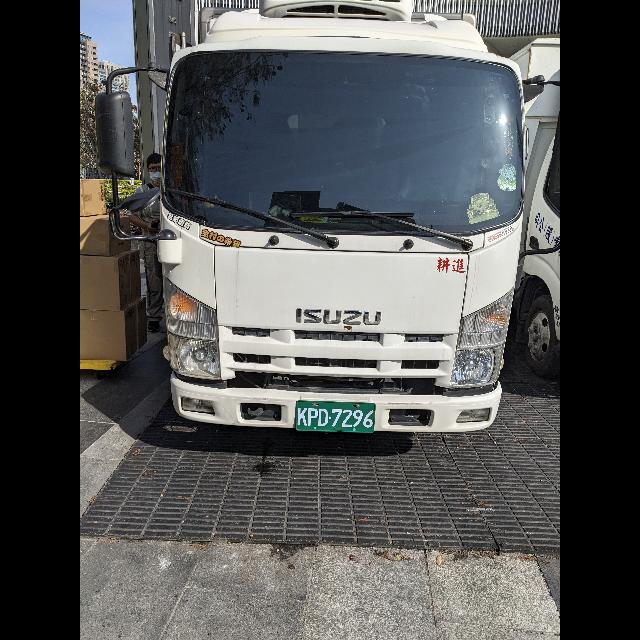plate: (295, 400, 376, 433)
